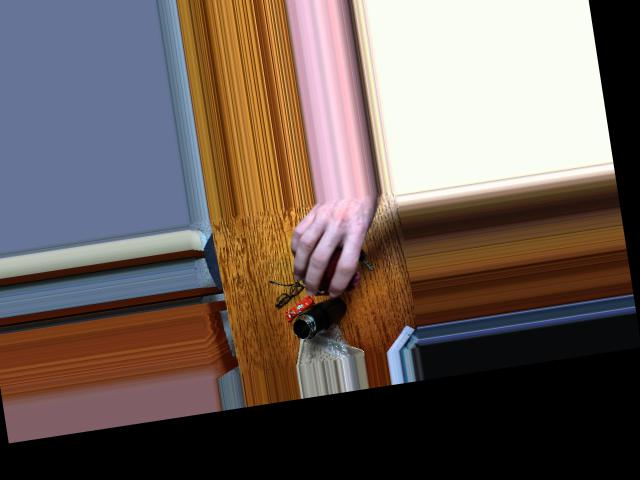onion: (297, 234, 358, 287)
